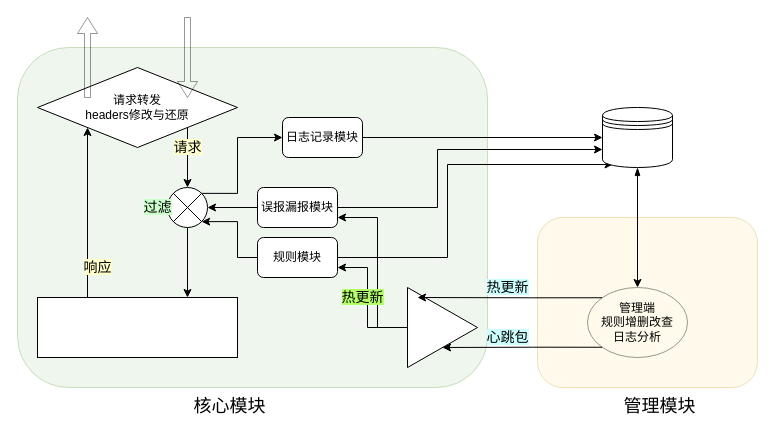
Image size: 775x447. Some labels were removed from this diagram. Here are the shapes that lost their labels. From the top down, the centre of each, then its label:
(637,137): DB
(137,327): 受保护应用
(442,327): 控制连接
